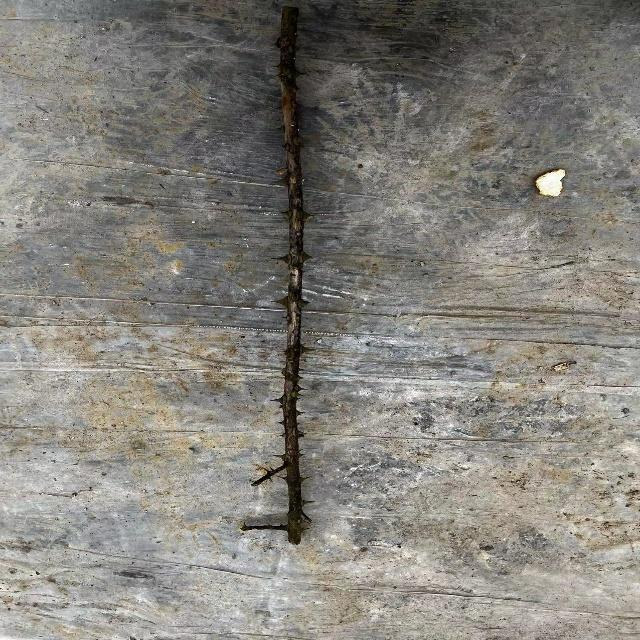branch: (280, 4, 312, 546)
